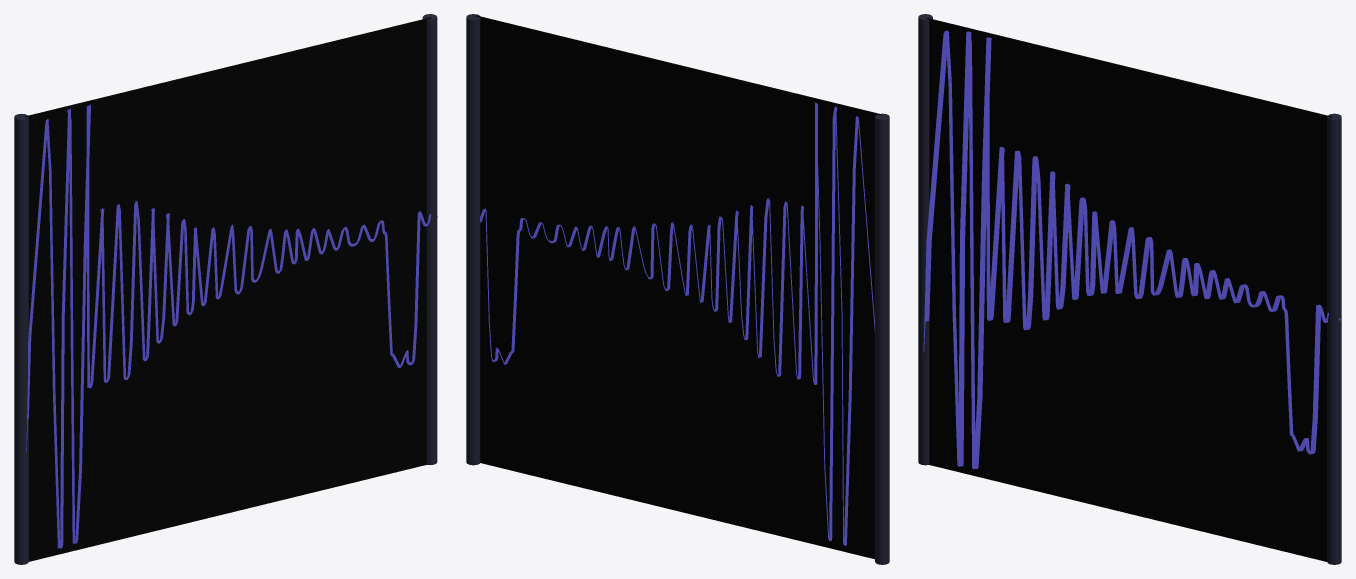
The model's file is Mur_3.fbx.
The picture shows the model from 3 angles, left to right: view 1: azimuth 30°, elevation 25°; view 2: azimuth 150°, elevation 25°; view 3: azimuth 330°, elevation 25°; orthographic projection.
Parts seen in each view (by area): view 1: Mur_3; view 2: Mur_3; view 3: Mur_3.
Part boxes in pixels (x1,y1,x2,y2): Mur_3: [14, 14, 437, 564]; Mur_3: [466, 14, 889, 564]; Mur_3: [918, 14, 1341, 564].
Size of the model in its own units: 533 by 538 by 16.25.
